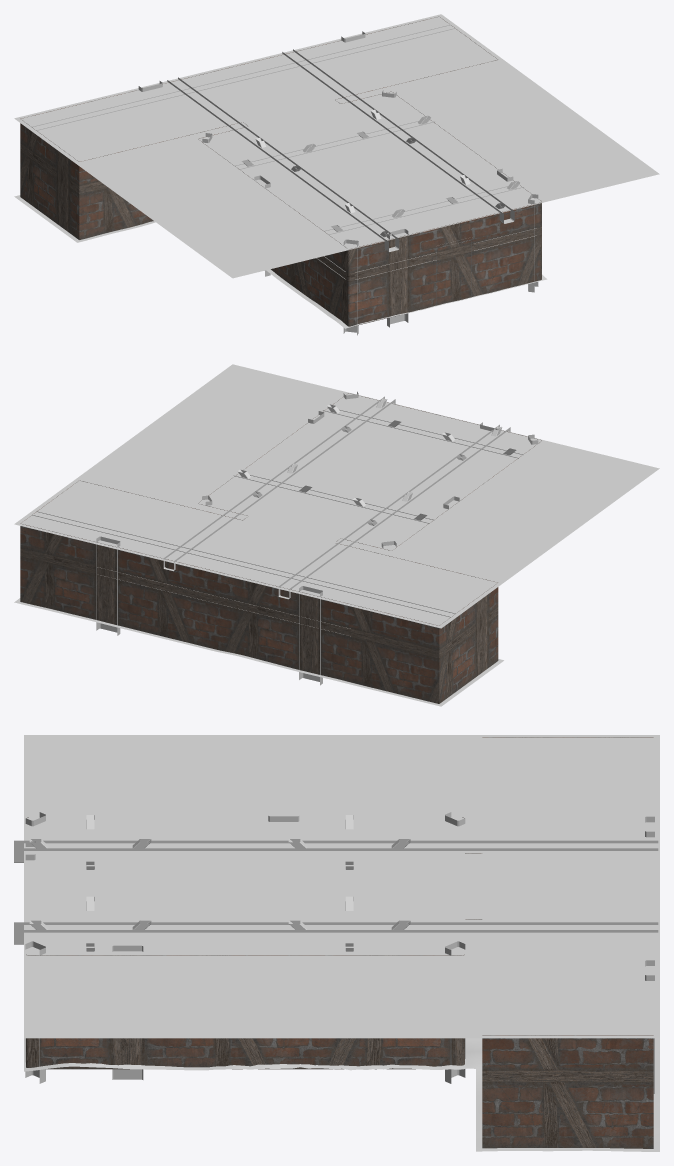
The model's file is Walls.fbx.
3 views of the same model, one above another, from view 1: azimuth 30°, elevation 25°; view 2: azimuth 150°, elevation 25°; view 3: azimuth 270°, elevation 25° (orthographic). The views are drawn at different scales.
Parts seen in each view (by area): view 1: Planks, Walls, Frame, Soil; view 2: Planks, Walls, Frame, Soil; view 3: Planks, Walls, Frame, Soil.
Part boxes in pixels (box(x1,y1,x2,y2)): Planks: box(14, 14, 659, 278); Walls: box(20, 16, 541, 326); Frame: box(32, 24, 538, 335); Soil: box(14, 195, 547, 328); Planks: box(14, 364, 659, 628); Walls: box(20, 393, 541, 703); Frame: box(32, 391, 538, 685); Soil: box(14, 598, 503, 706); Planks: box(24, 735, 659, 1038); Walls: box(26, 737, 653, 1148); Frame: box(14, 812, 658, 1093); Soil: box(24, 1038, 659, 1151).
Size of the model in its own units: 20912 by 4333 by 18829.
Materials: 1 (1 with a texture image).
